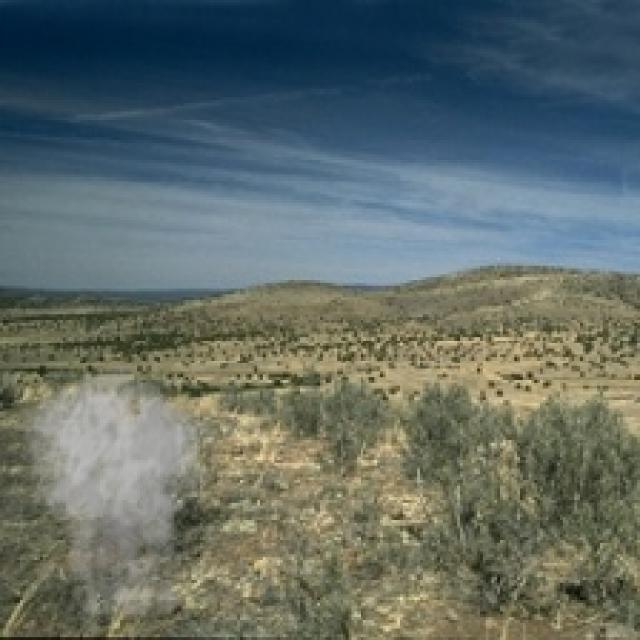smoke: (17, 363, 220, 637)
